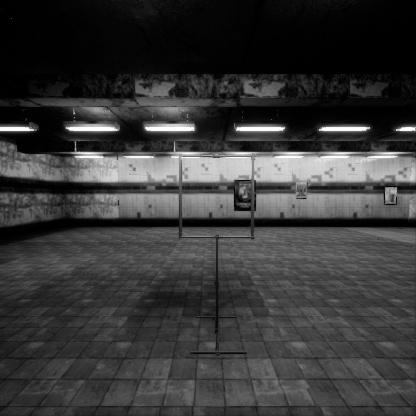gate: (179, 176, 262, 261)
